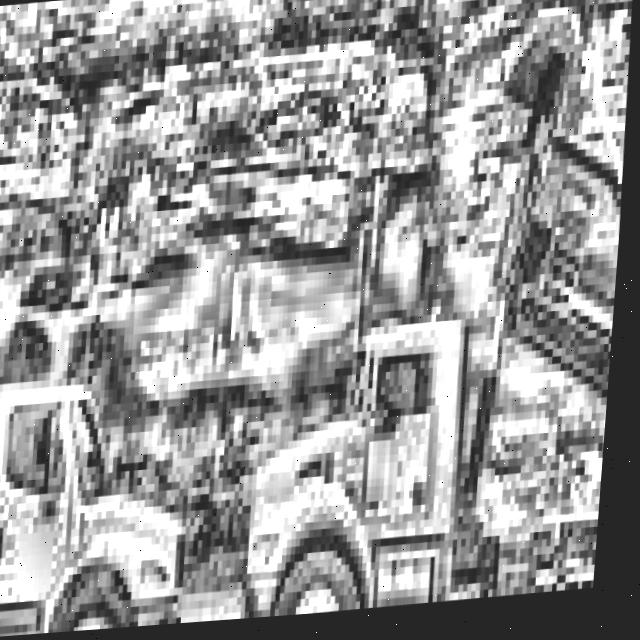dump_truck: (237, 79, 633, 624), (0, 133, 219, 640)
